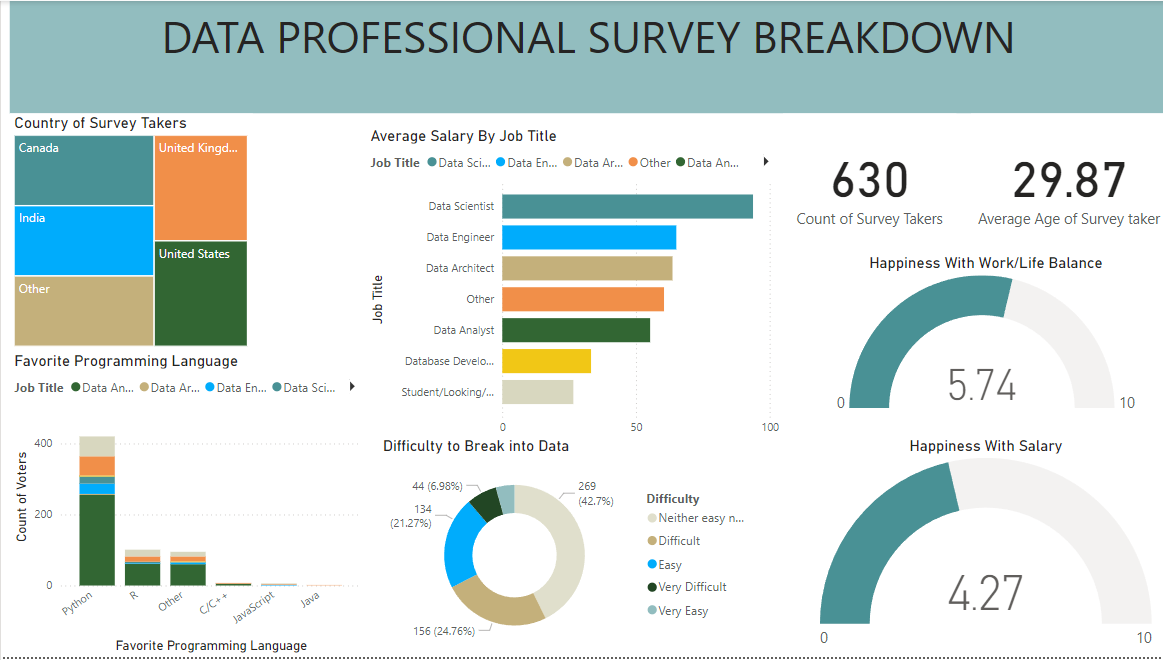

The page's visual inventory and layout, read from the dashboard file:
{"tool":"powerbi","page":{"name":"Page 1","canvas":[1280,720],"ordinal":0},"visuals":[{"type":"textbox","box":[9.6,0,1270.7,123.5],"z":0},{"type":"card","fields":{"Values":["Count(Data Professional Survey.Unique ID)"]},"box":[859,123.5,189.4,153.7],"z":1000},{"type":"card","fields":{"Values":["Avg(Data Professional Survey.Q10 - Current Age)"]},"box":[1064.8,123.5,215.4,153.7],"z":1001},{"type":"barChart","title":"Average Salary By Job Title","fields":{"Category":["Data Professional Survey.Q1 - Which Title Best Fits your Current Role?.1"],"Y":["Avg(Data Professional Survey.Average Salary)"],"Series":["Data Professional Survey.Q1 - Which Title Best Fits your Current Role?.1"]},"box":[400.7,137.2,458.3,362.3],"z":1002},{"type":"columnChart","title":"Favorite Programming Language","fields":{"Category":["Data Professional Survey.Q5 - Favorite Programming Language.1"],"Y":["CountNonNull(Data Professional Survey.Unique ID)"],"Series":["Data Professional Survey.Q1 - Which Title Best Fits your Current Role?.1"]},"box":[9.6,384.2,391.1,336.2],"z":1003},{"type":"treemap","title":"Country of Survey Takers","fields":{"Group":["Data Professional Survey.Q11 - Which Country do you live in?.1"],"Values":["Count(Data Professional Survey.Q11 - Which Country do you live in?.1)"]},"box":[9.6,123.5,266.2,260.7],"z":1004},{"type":"gauge","title":"Happiness With Work/Life Balance","fields":{"Y":["Avg(Data Professional Survey.Q6 - How Happy are you in your Current Position with the following? (Work/Life Balance))"],"MinValue":["Min(Data Professional Survey.Q6 - How Happy are you in your Current Position with the following? (Work/Life Balance))1"],"MaxValue":["Max(Data Professional Survey.Q6 - How Happy are you in your Current Position with the following? (Work/Life Balance))2"]},"box":[882.3,277.2,397.9,179.8],"z":1005},{"type":"gauge","title":"Happiness With Salary","fields":{"Y":["Avg(Data Professional Survey.Q6 - How Happy are you in your Current Position with the following? (Salary))"],"MinValue":["Min(Data Professional Survey.Q6 - How Happy are you in your Current Position with the following? (Salary))"],"MaxValue":["Max(Data Professional Survey.Q6 - How Happy are you in your Current Position with the following? (Salary))"]},"box":[882.3,477.5,397.9,242.9],"z":1006},{"type":"donutChart","title":"Difficulty to Break into Data","fields":{"Category":["Data Professional Survey.Q7 - How difficult was it for you to break into Data?"],"Y":["CountNonNull(Data Professional Survey.Q7 - How difficult was it for you to break into Data?)"]},"box":[414.4,477.5,424,242.9],"z":1007}]}

Visuals, with their boxes in screenshot pixels (x1, y1, x2, y2), scaled from the page's 1280x720 canvas onto the 1163x660 screenshot:
textbox: crop(9, 0, 1162, 113)
card - Count(Data Professional Survey.Unique ID): crop(780, 113, 953, 254)
card - Avg(Data Professional Survey.Q10 - Current Age): crop(967, 113, 1162, 254)
"Average Salary By Job Title" barChart: crop(364, 126, 780, 458)
"Favorite Programming Language" columnChart: crop(9, 352, 364, 659)
"Country of Survey Takers" treemap: crop(9, 113, 251, 352)
"Happiness With Work/Life Balance" gauge: crop(802, 254, 1162, 419)
"Happiness With Salary" gauge: crop(802, 438, 1162, 659)
"Difficulty to Break into Data" donutChart: crop(377, 438, 762, 659)
